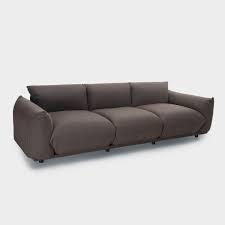3seatersofa: (14, 82, 213, 162)
backrest: (27, 82, 167, 110)
leftarmrest: (169, 90, 213, 133)
leg: (105, 148, 110, 152), (34, 160, 43, 162), (151, 141, 156, 144), (194, 135, 198, 137)
rightarmrest: (13, 96, 52, 158)
seat: (51, 104, 206, 154)
